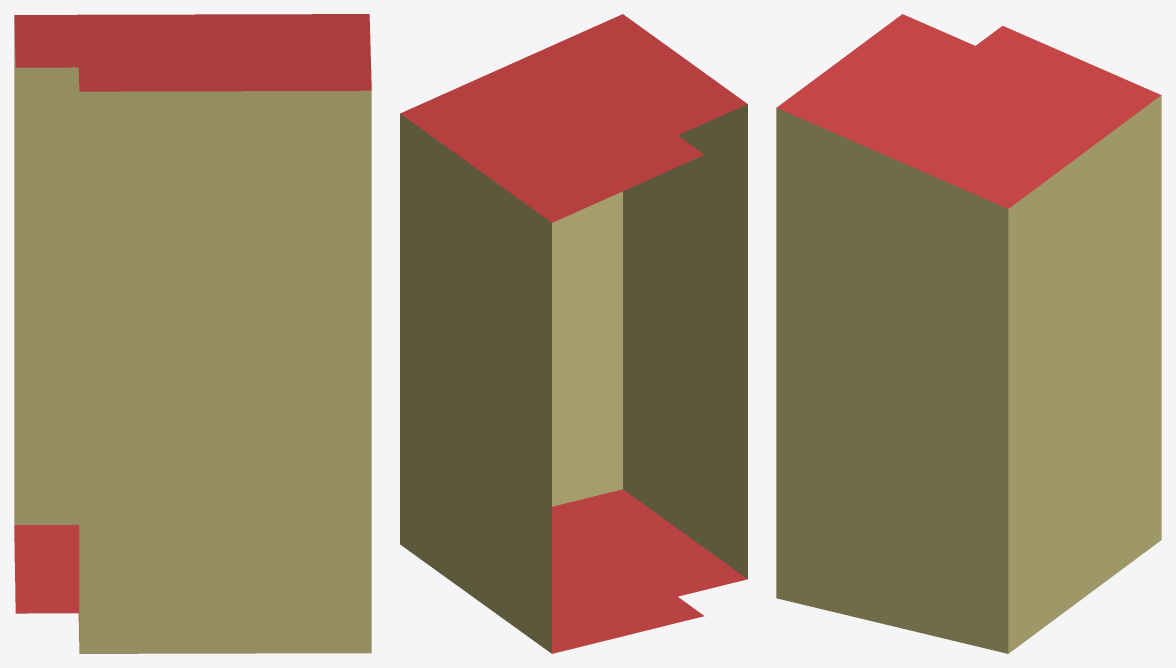
The picture shows the model from 3 angles, left to right: view 1: azimuth 30°, elevation 25°; view 2: azimuth 150°, elevation 25°; view 3: azimuth 270°, elevation 25°; orthographic projection. The views are drawn at different scales.
Visible parts, largest first — view 1: group_4, group_3, group_5; view 2: group_4, group_3, group_5; view 3: group_4, group_3.
Boxes of the visible parts, <box> form: group_4: <box>14,25,371,653</box>; group_3: <box>14,14,371,91</box>; group_5: <box>14,525,79,641</box>; group_4: <box>400,104,747,653</box>; group_3: <box>400,14,747,222</box>; group_5: <box>552,489,747,653</box>; group_4: <box>776,95,1161,653</box>; group_3: <box>776,14,1161,208</box>.
Bounding box in the file's own units: 6.85 × 7.33 × 10.31.
